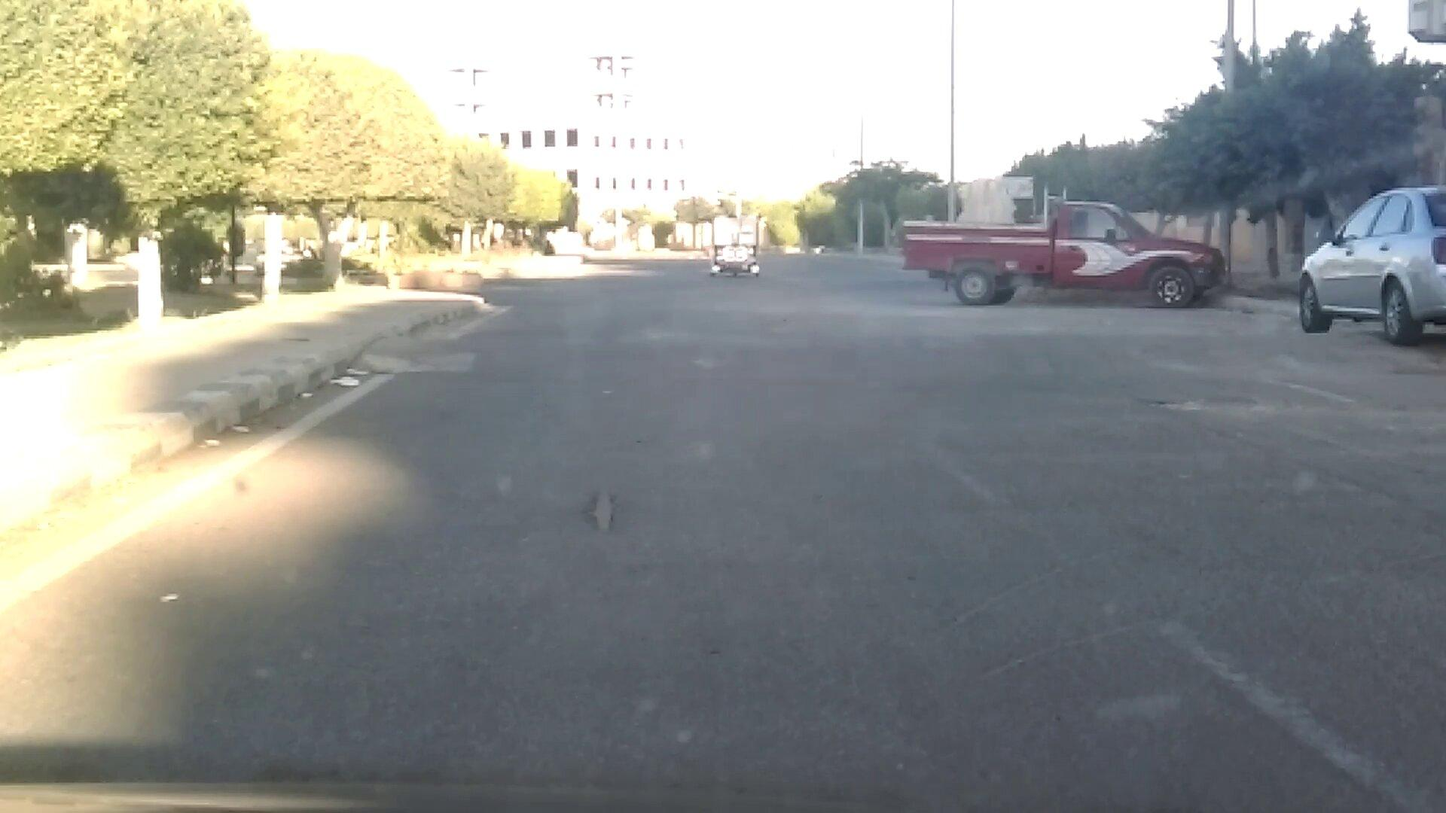Bump: (348, 330, 1407, 374)
